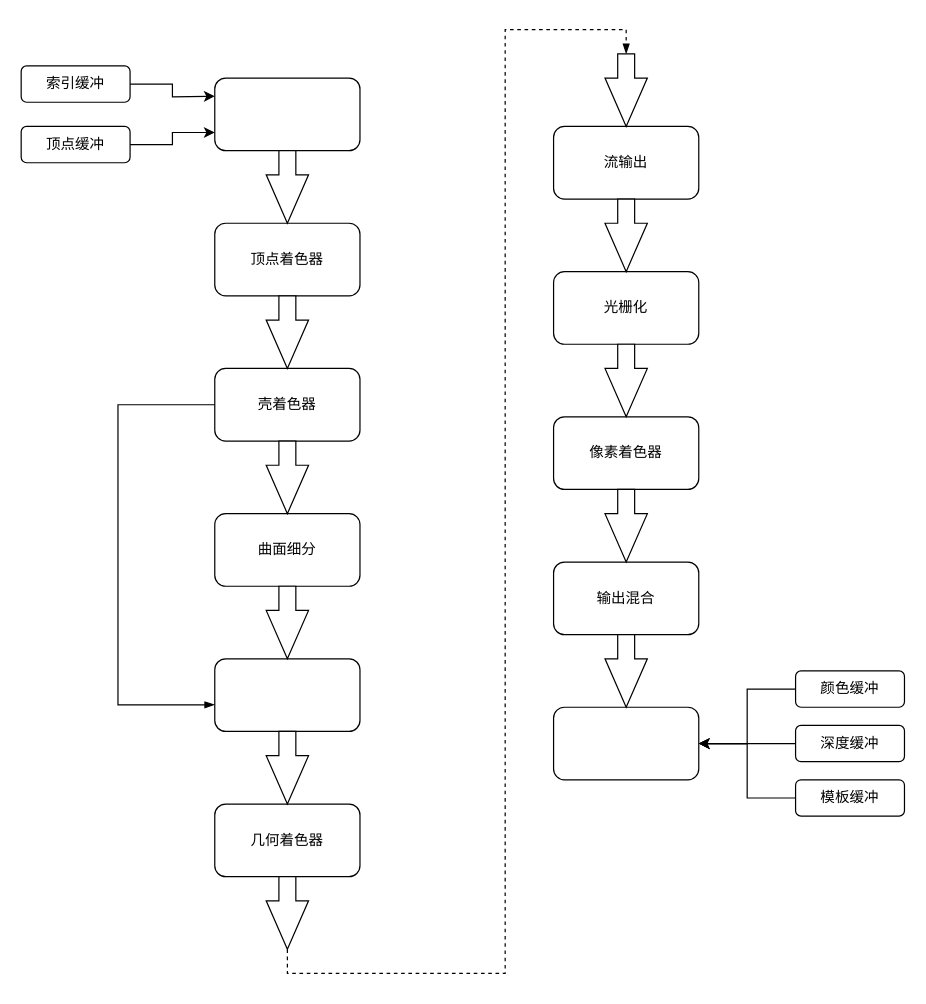
Some shapes in this 926 by 1004 pixel diagram are drawn without their labels. Here are the shapes that lost their labels. From the top down, the centre of each, then its label:
At point 287,114: "输入装配".
At point 287,694: "域着色器".
At point 625,743: "帧缓冲".
